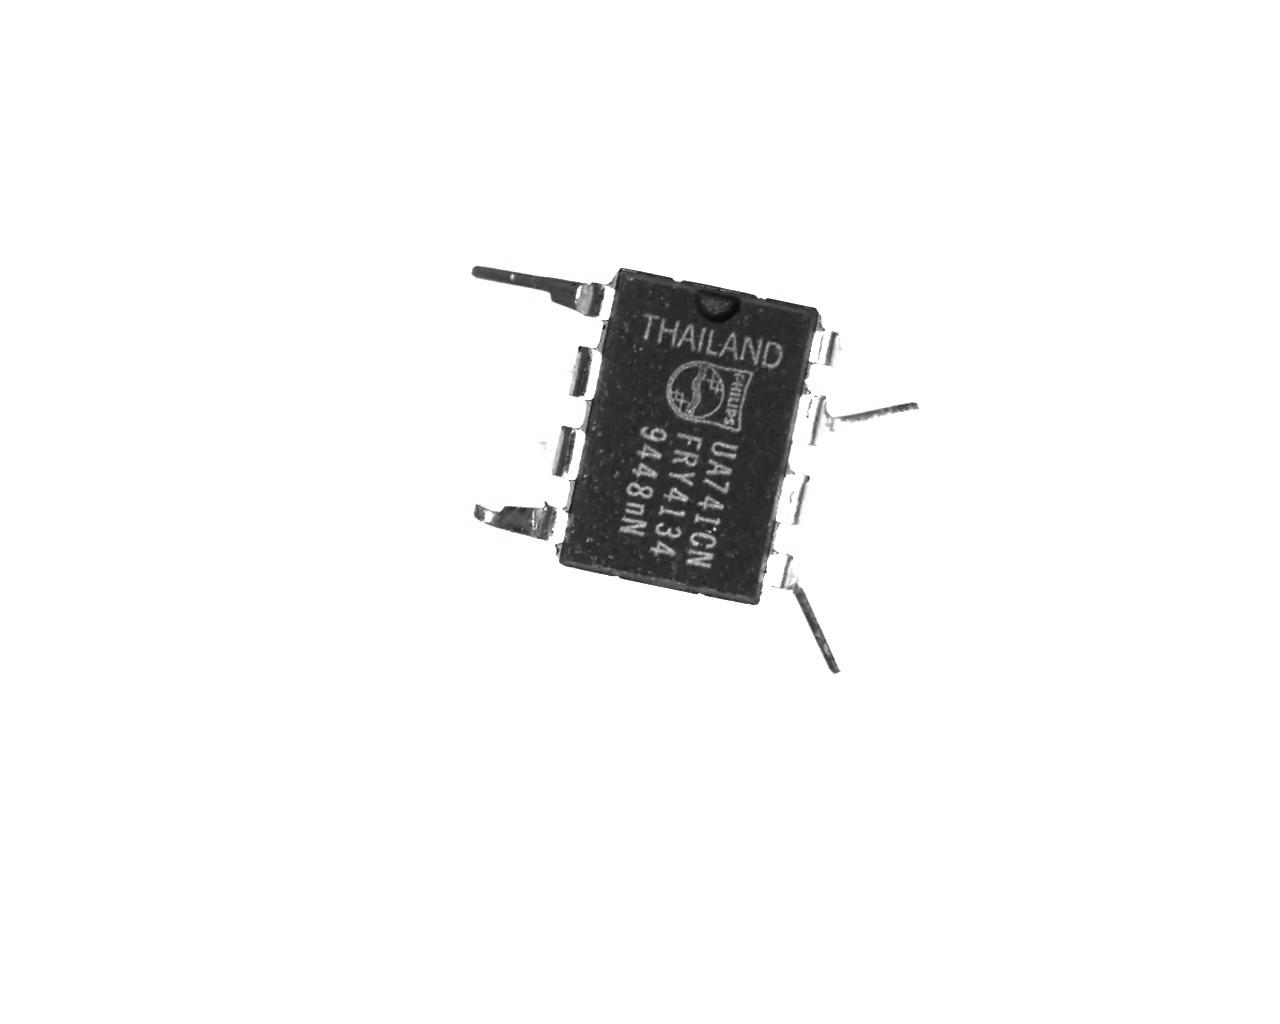Leg: (447, 246, 616, 330), (772, 545, 843, 684), (797, 390, 930, 450), (465, 502, 571, 554), (554, 335, 609, 409), (800, 310, 859, 376), (532, 420, 579, 487), (788, 463, 820, 541)
